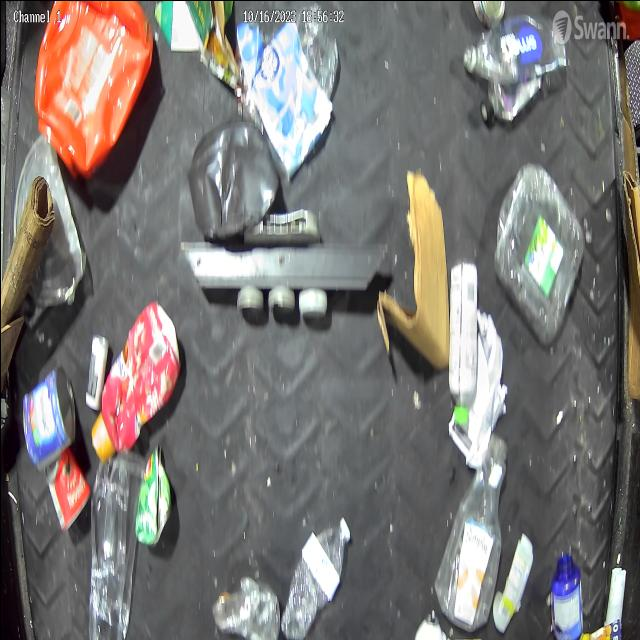can: (20, 364, 76, 468), (135, 444, 171, 546), (46, 448, 88, 532), (85, 331, 108, 411), (473, 0, 506, 24)
non_white_jug: (32, 0, 156, 176), (90, 299, 180, 463)
plastic_bottle: (433, 432, 509, 632), (280, 514, 351, 640), (461, 12, 568, 78), (478, 78, 542, 124)
